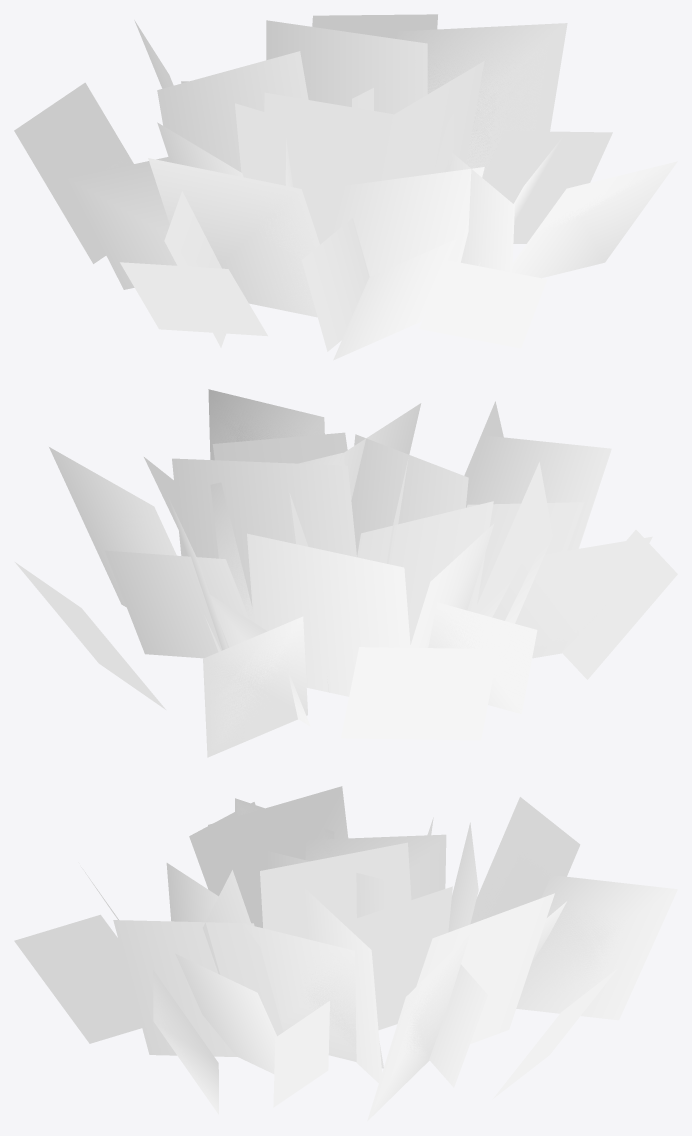
The model's file is TFF_Grass_Patch_01.fbx.
The picture shows the model from 3 angles, top to bottom: view 1: azimuth 30°, elevation 25°; view 2: azimuth 150°, elevation 25°; view 3: azimuth 270°, elevation 25°; orthographic projection. The views are drawn at different scales.
Visible parts, largest first — view 1: TFF_Grass_Patch_01_LOD0; view 2: TFF_Grass_Patch_01_LOD0; view 3: TFF_Grass_Patch_01_LOD0.
Part boxes in pixels (x1=…): TFF_Grass_Patch_01_LOD0: x1=14, y1=14, x2=677, y2=360; TFF_Grass_Patch_01_LOD0: x1=15, y1=389, x2=677, y2=757; TFF_Grass_Patch_01_LOD0: x1=14, y1=786, x2=677, y2=1121.
Size of what is drawn, in the model's own units: 1.61 by 0.4516 by 1.84.
